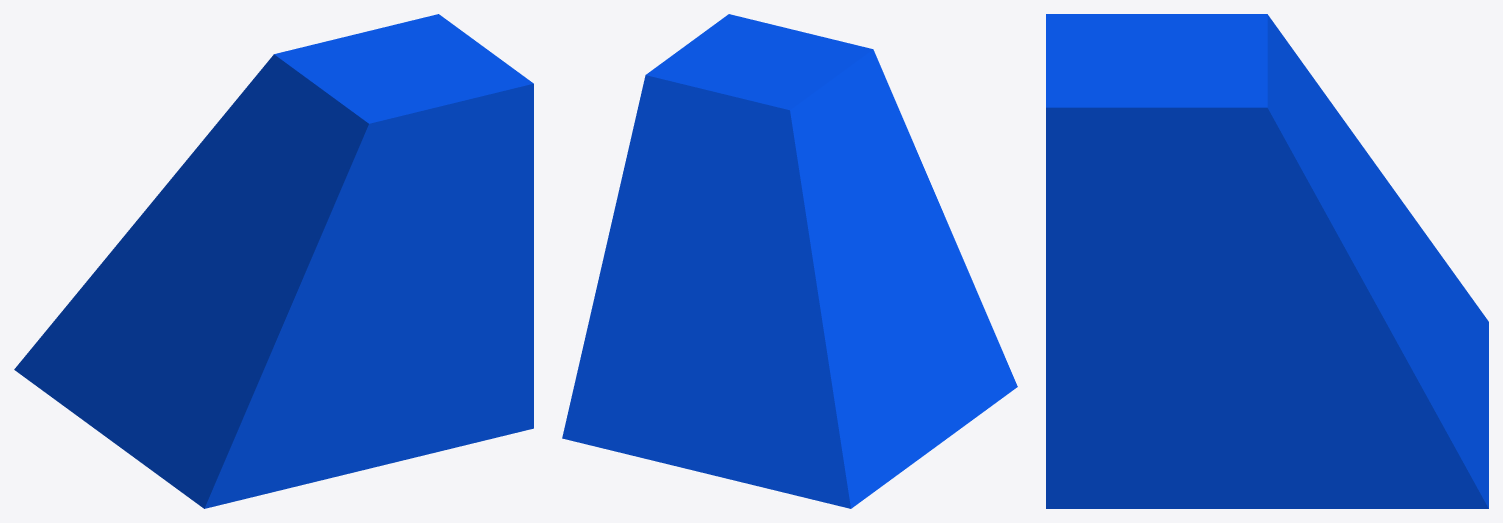
The model's file is COL_Barrier-Outdoor-4x4x4-Rocks-Slope-Corner-Convex.FBX.
3 views of the same model, side by side, from view 1: azimuth 30°, elevation 25°; view 2: azimuth 150°, elevation 25°; view 3: azimuth 270°, elevation 25° (orthographic). The views are drawn at different scales.
Visible parts, largest first — view 1: COL_Barrier-Outdoor-4x4x4-Rocks-Slope-Corner-Convex; view 2: COL_Barrier-Outdoor-4x4x4-Rocks-Slope-Corner-Convex; view 3: COL_Barrier-Outdoor-4x4x4-Rocks-Slope-Corner-Convex.
Part boxes in pixels (x1,y1,x2,y2): COL_Barrier-Outdoor-4x4x4-Rocks-Slope-Corner-Convex: (14,14,533,508); COL_Barrier-Outdoor-4x4x4-Rocks-Slope-Corner-Convex: (562,14,1017,508); COL_Barrier-Outdoor-4x4x4-Rocks-Slope-Corner-Convex: (1046,14,1488,508).
Size of the model in its own units: 40 by 40 by 40.
